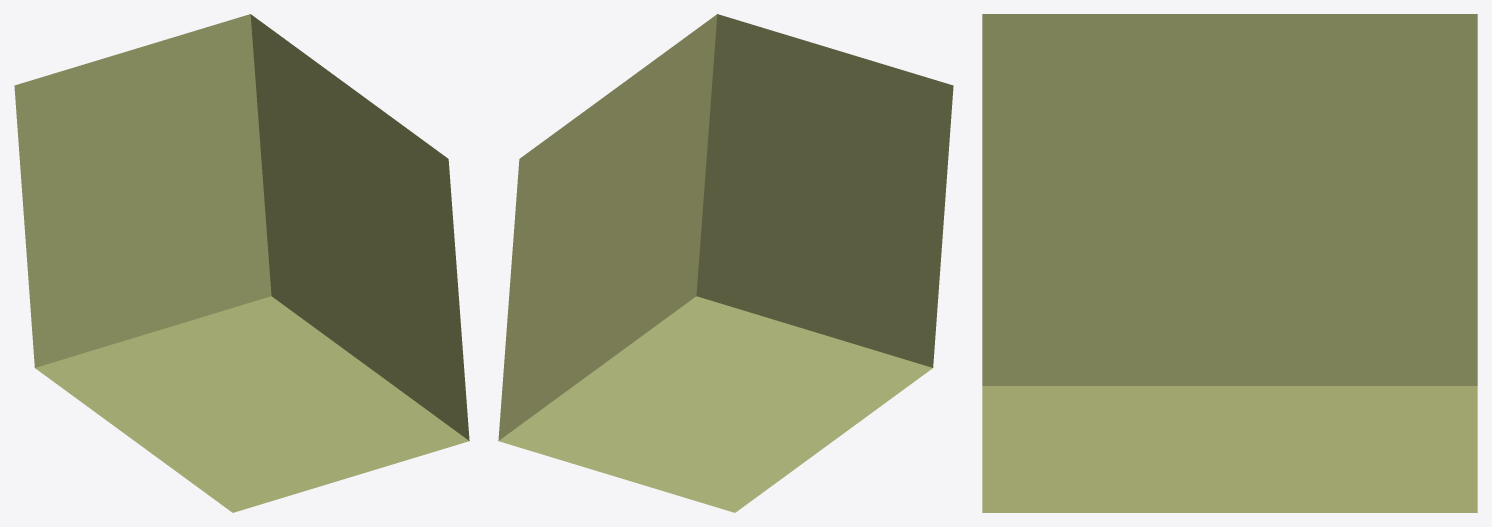
3 renders of one model, left to right at view 1: azimuth 30°, elevation 25°; view 2: azimuth 150°, elevation 25°; view 3: azimuth 270°, elevation 25°, orthographic. The views are drawn at different scales.
Parts seen in each view (by area): view 1: 0_1_2_0_3_1_0_2_2_0_2; view 2: 0_1_2_0_3_1_0_2_2_0_2; view 3: 0_1_2_0_3_1_0_2_2_0_2.
Boxes of the visible parts, box(x1,y1,x2,y2) form: 0_1_2_0_3_1_0_2_2_0_2: box(14, 14, 469, 512); 0_1_2_0_3_1_0_2_2_0_2: box(498, 14, 953, 512); 0_1_2_0_3_1_0_2_2_0_2: box(982, 14, 1477, 512).
Bounding box in the file's own units: 6.75 × 7.56 × 9.
